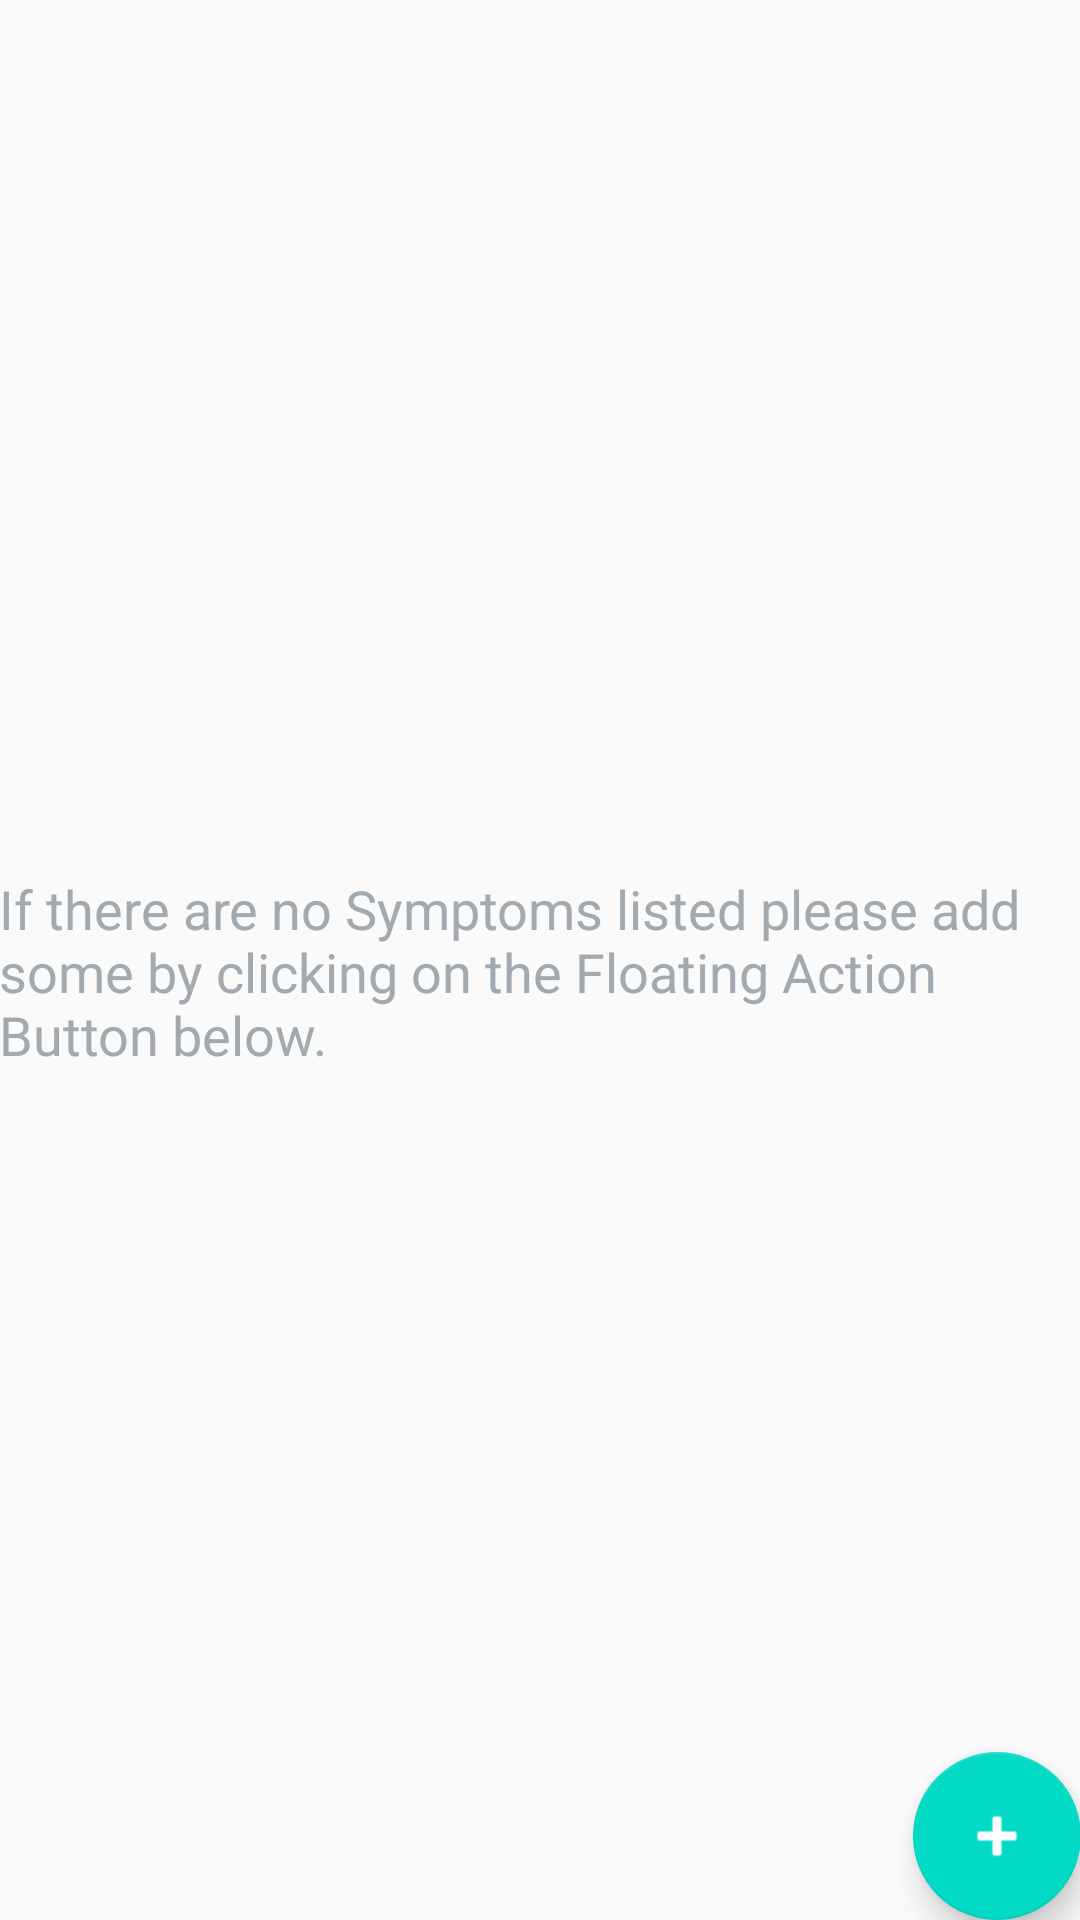

Named icons in this screenshot (1080 x 1920) and their bounding boxes, [x1=x1, y1=y1, x2=x2, y2=y2]:
add: [x1=913, y1=1752, x2=1080, y2=1920]
